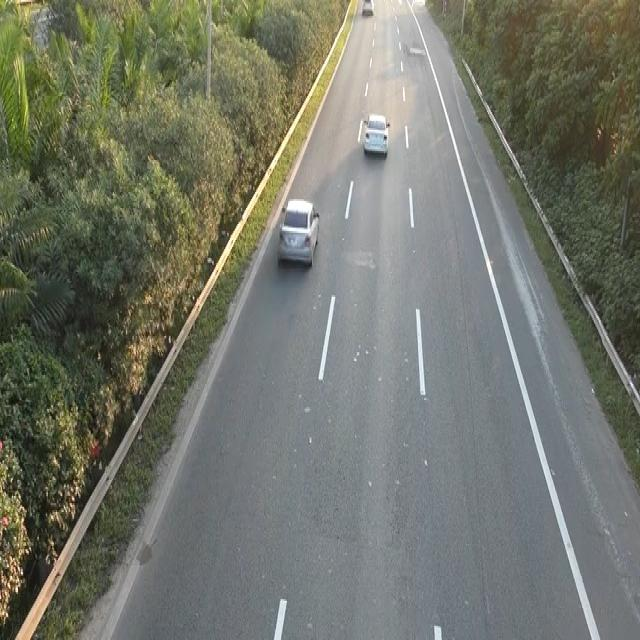bus: (276, 194, 321, 268), (361, 110, 390, 158)
